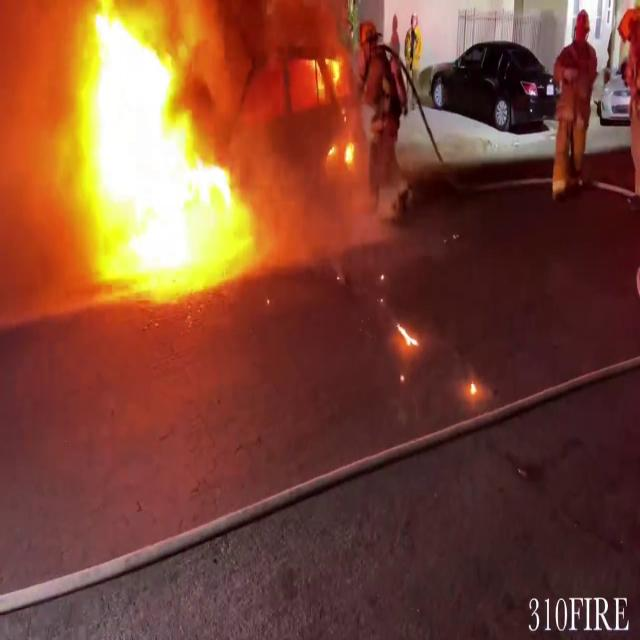Fire: (63, 1, 253, 292)
